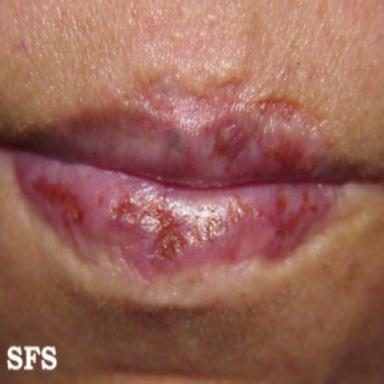Lupus-Erythematosus-Chronicus-Discoides: (96, 191, 255, 268), (258, 186, 322, 256), (201, 118, 249, 177), (31, 177, 85, 229), (260, 129, 306, 180)
